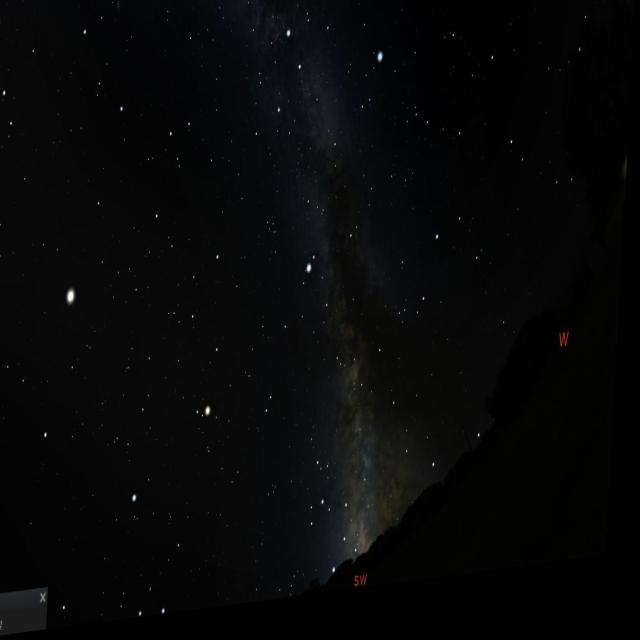aquila: (288, 253, 364, 393)
cygnus: (269, 21, 350, 212)
lyra: (356, 57, 387, 138)
sagittarius: (312, 495, 364, 599)
